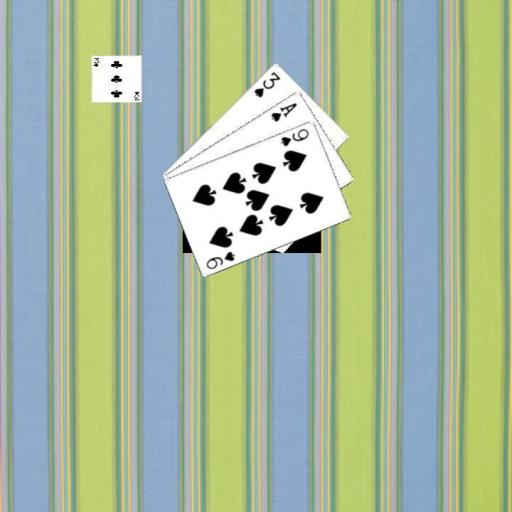card-corner: (251, 68, 282, 99), (277, 125, 311, 147), (203, 248, 236, 270), (268, 100, 299, 123)
